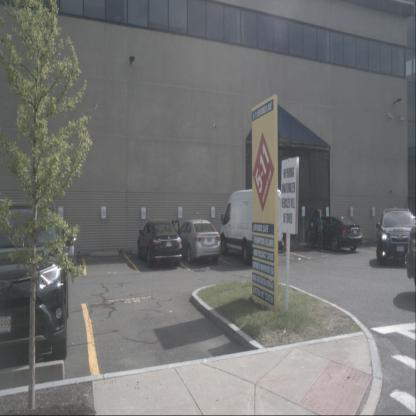human-pedestrian-adult: (315, 211, 324, 250)
vehicle-car: (0, 198, 76, 360), (219, 188, 284, 266), (375, 206, 416, 266), (137, 220, 183, 268), (173, 218, 221, 264), (305, 216, 363, 252)
